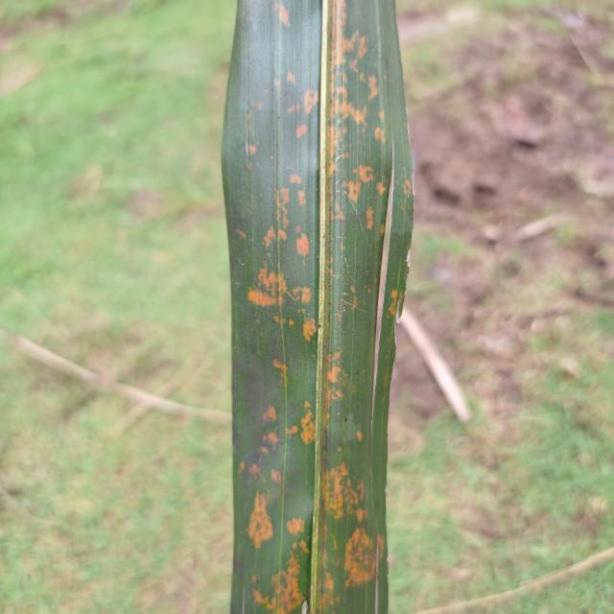Kalium: (216, 0, 416, 614)
